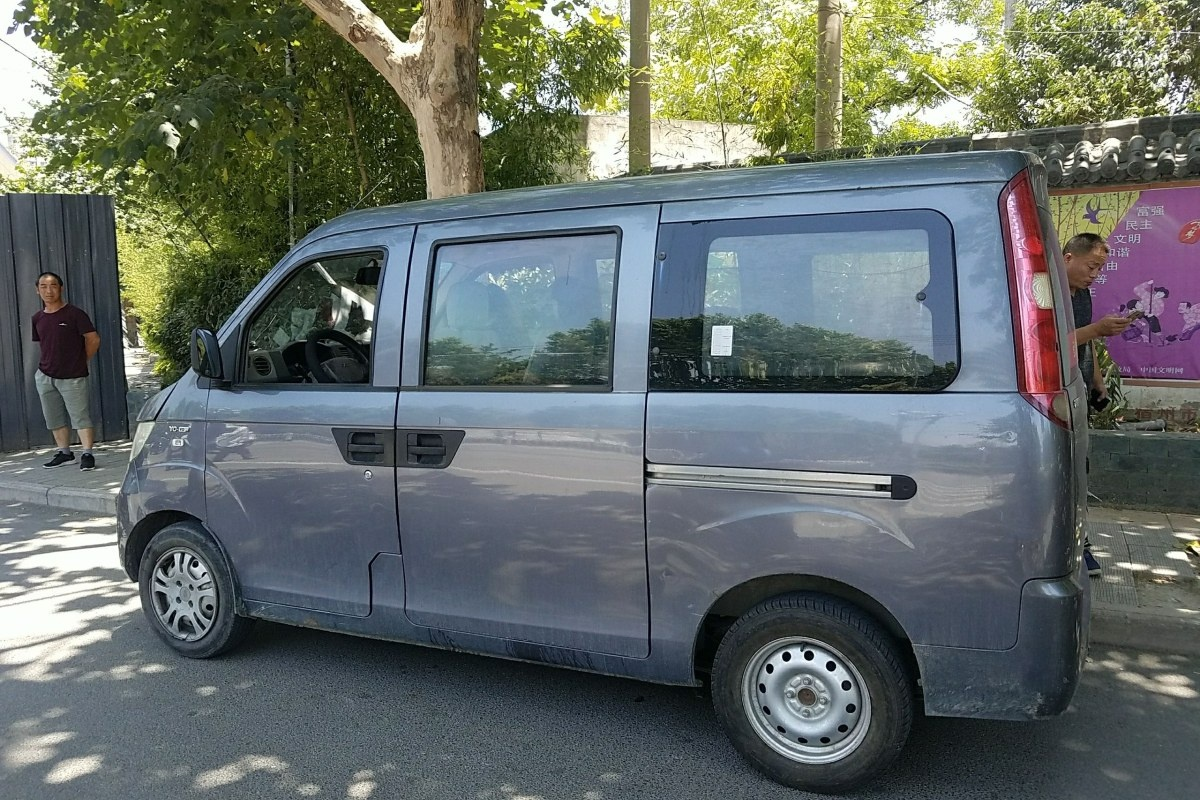minibus: (114, 154, 1078, 768)
